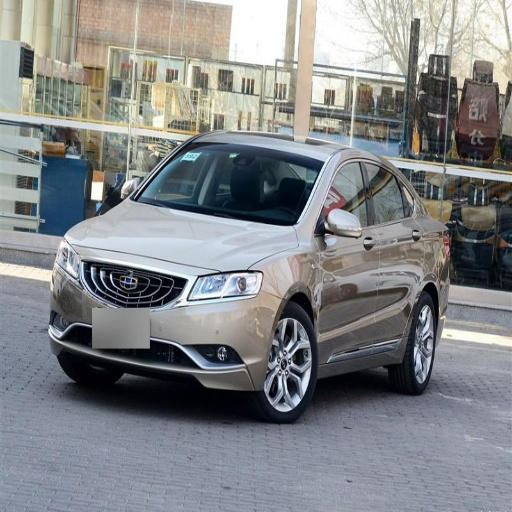front_bumper: (49, 245, 282, 385)
front_glass: (130, 139, 324, 225)
front_left_door: (315, 155, 378, 361)
